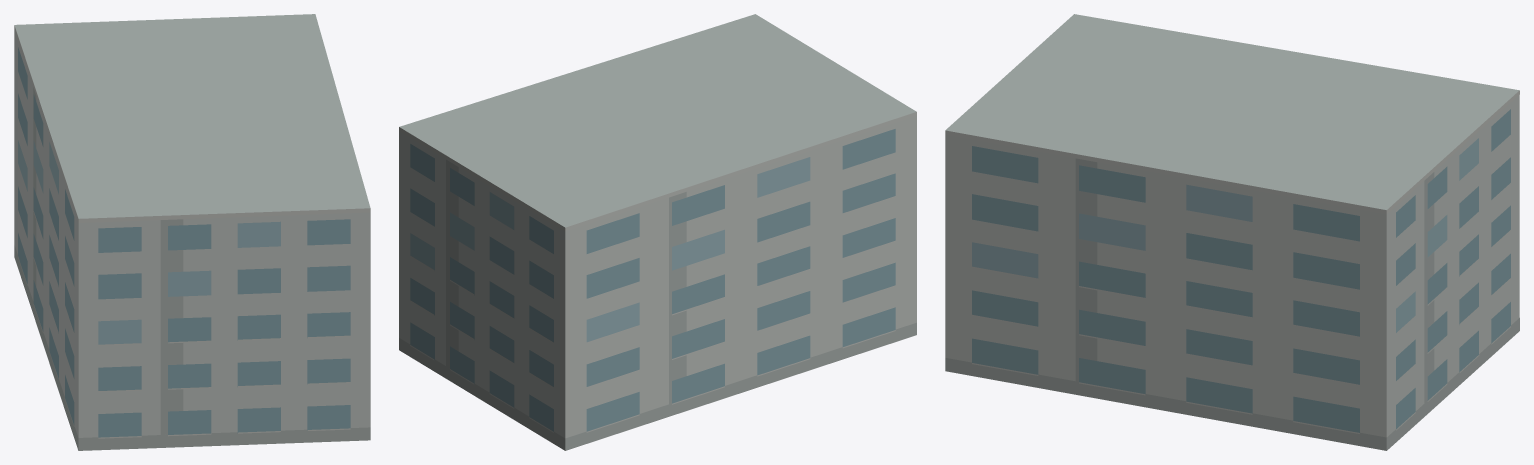
The model's file is survey-upis-32500750.glb.
3 views of the same model, side by side, from view 1: azimuth 30°, elevation 25°; view 2: azimuth 150°, elevation 25°; view 3: azimuth 270°, elevation 25° (orthographic). The views are drawn at different scales.
Parts seen in each view (by area): view 1: survey-upis-32500750.tmp; view 2: survey-upis-32500750.tmp; view 3: survey-upis-32500750.tmp.
Part boxes in pixels (x1=…): survey-upis-32500750.tmp: x1=14, y1=14, x2=370, y2=450; survey-upis-32500750.tmp: x1=399, y1=14, x2=916, y2=450; survey-upis-32500750.tmp: x1=945, y1=14, x2=1519, y2=450.
Bounding box in the file's own units: 23.34 × 13.35 × 28.88.
